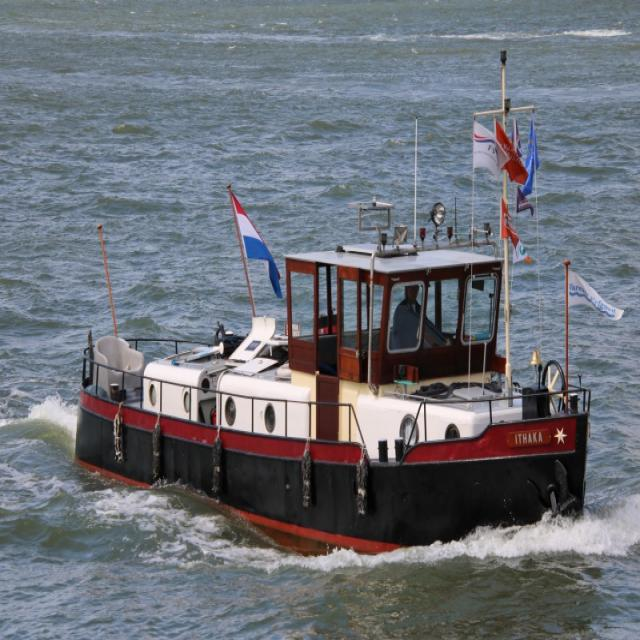tugboat: (67, 51, 596, 578)
